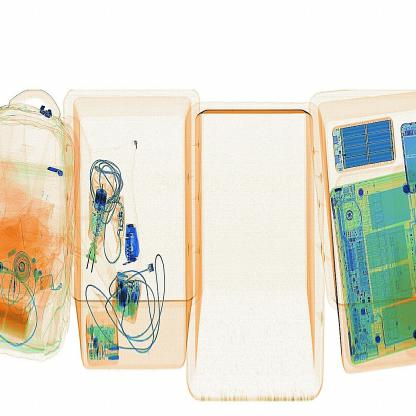scissors: (118, 214, 149, 272)
